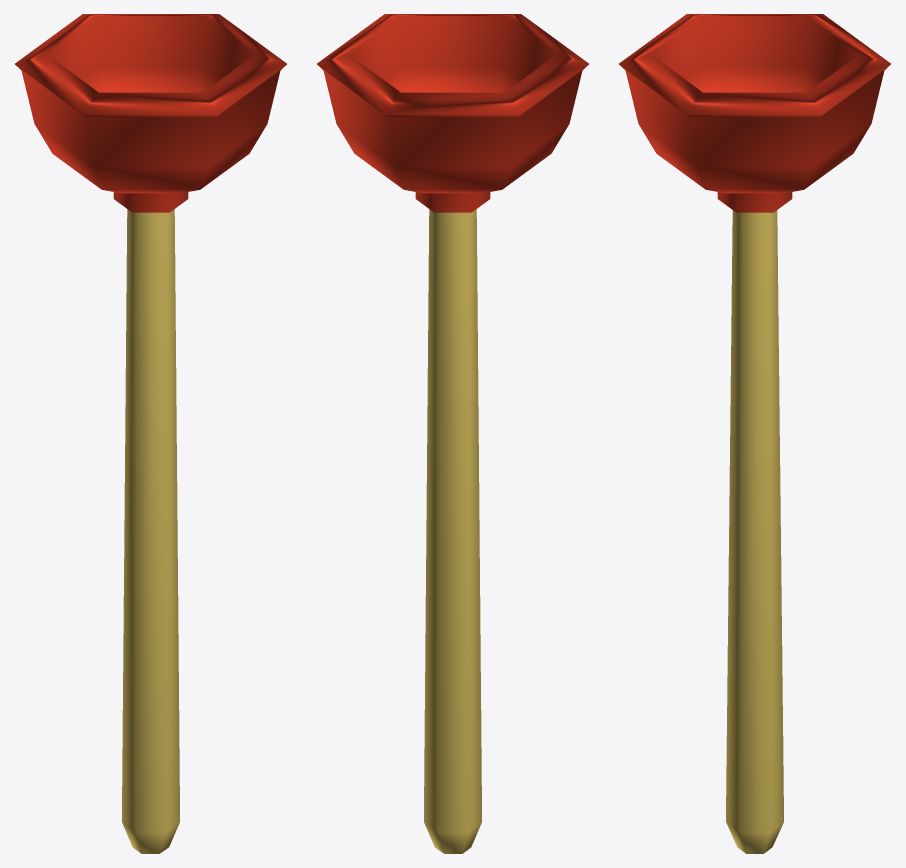
The model's file is Desentupidor.dae.
The picture shows the model from 3 angles, left to right: view 1: azimuth 30°, elevation 25°; view 2: azimuth 150°, elevation 25°; view 3: azimuth 270°, elevation 25°; orthographic projection.
Parts seen in each view (by area): view 1: Head, Body; view 2: Head, Body; view 3: Head, Body.
Boxes of the visible parts, <box> form: Head: <box>15,14,286,212</box>; Body: <box>122,209,179,853</box>; Head: <box>317,14,588,212</box>; Body: <box>424,209,481,853</box>; Head: <box>619,14,890,212</box>; Body: <box>726,210,783,853</box>.
Size of the model in its own units: 6.34 by 7.32 by 23.45.
